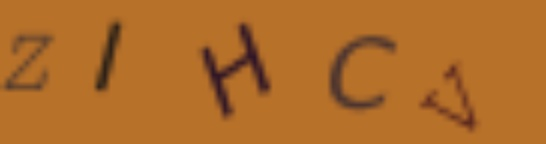C: (325, 31, 401, 112)
H: (196, 20, 275, 122)
I: (85, 17, 129, 94)
V: (416, 58, 478, 134)
Z: (2, 28, 57, 97)
